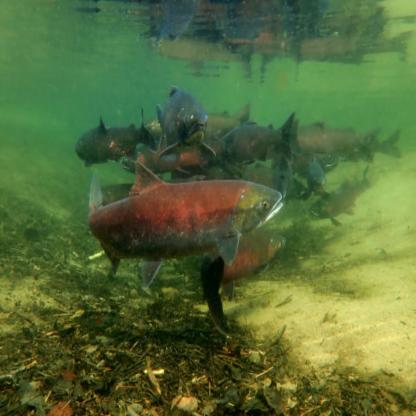sockeye: (88, 178, 285, 242), (208, 238, 286, 324)
sockeye-group: (81, 98, 409, 306)
